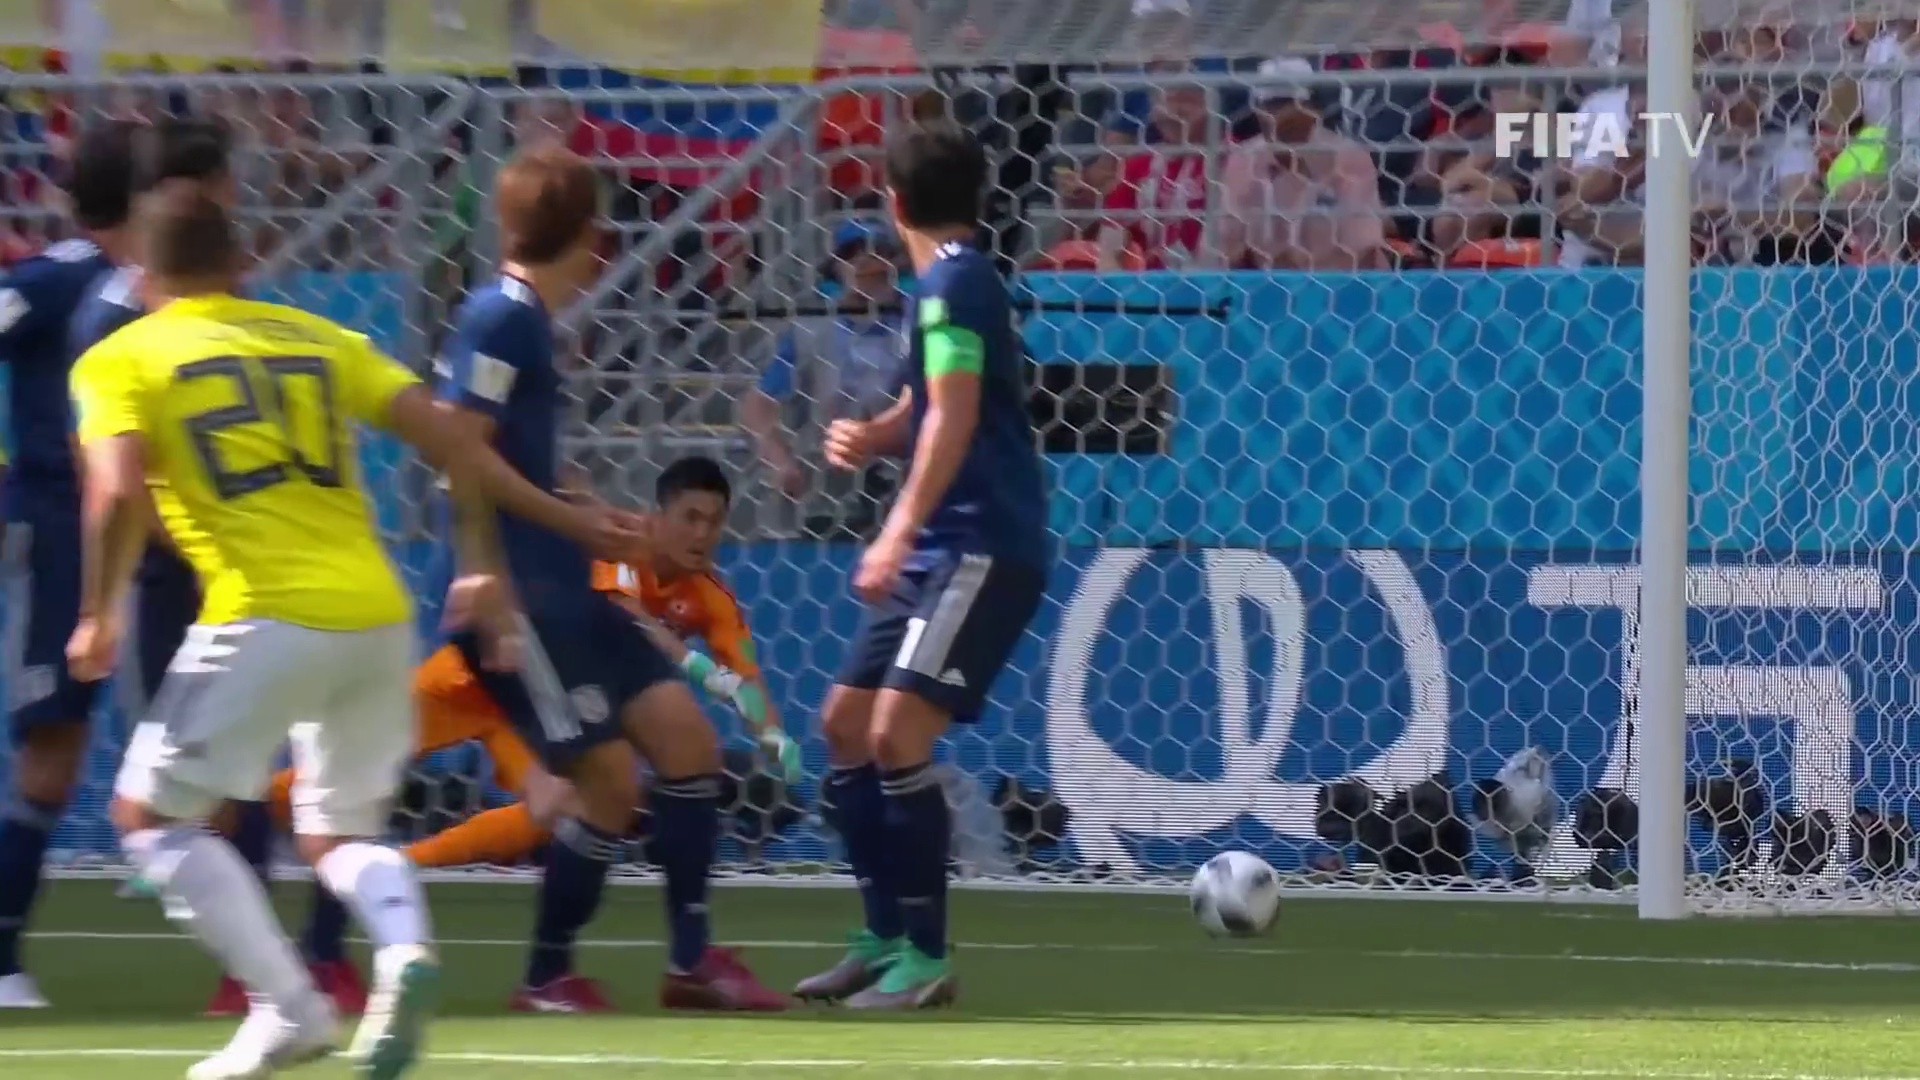ball: (1187, 855, 1275, 939)
person: (61, 190, 456, 1072), (448, 141, 765, 1016), (828, 129, 1052, 1010), (589, 435, 767, 716)
